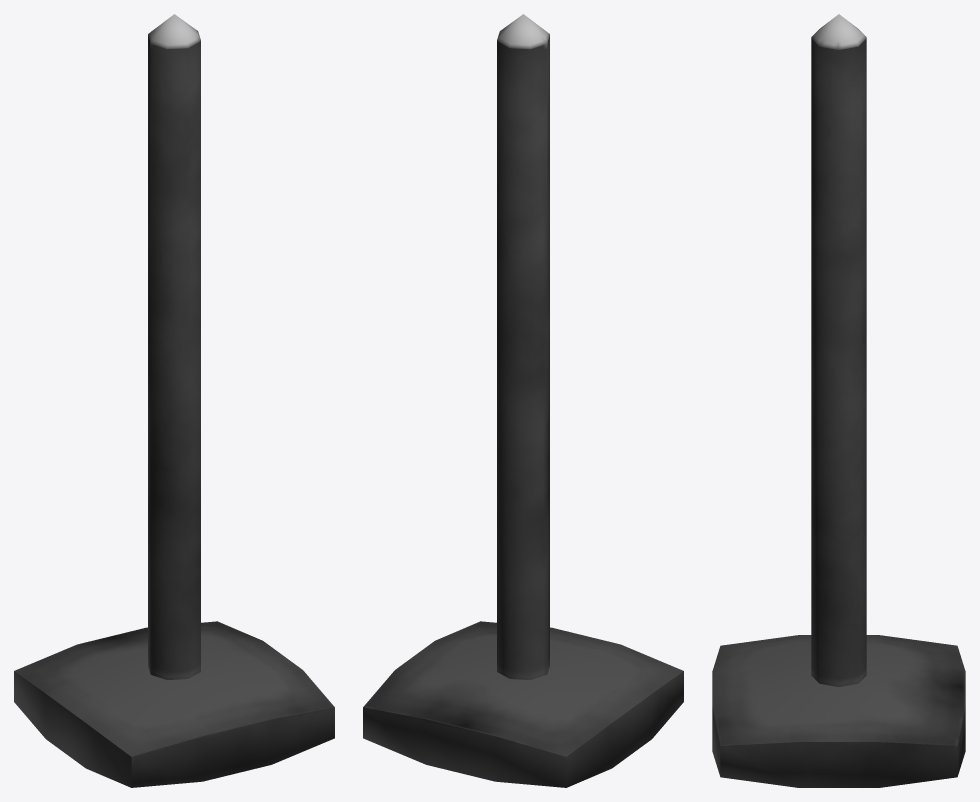
The model's file is StreetStructures_Cone.fbx.
3 views of the same model, side by side, from view 1: azimuth 30°, elevation 25°; view 2: azimuth 150°, elevation 25°; view 3: azimuth 270°, elevation 25° (orthographic).
Parts seen in each view (by area): view 1: Cones; view 2: Cones; view 3: Cones.
Boxes of the visible parts, x1=… form: Cones: x1=14, y1=14, x2=334, y2=787; Cones: x1=363, y1=14, x2=683, y2=787; Cones: x1=712, y1=14, x2=965, y2=787.
Size of the model in its own units: 46.11 by 147 by 46.11.
